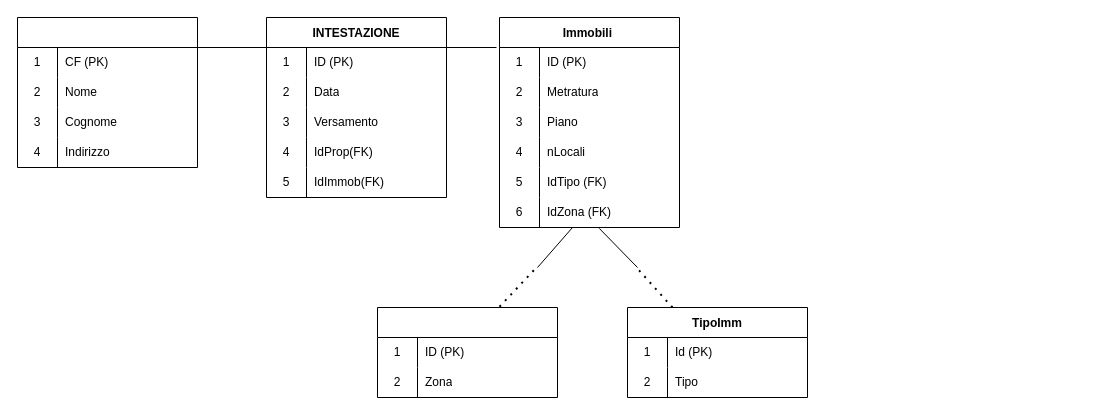
This 1116x415 diagram has some shape labels left out. The box of each missing label's shape, as (x1, y1, x2, y2) in pixels:
Proprietari: (16, 16, 198, 168)
TipoZona: (376, 306, 558, 398)
